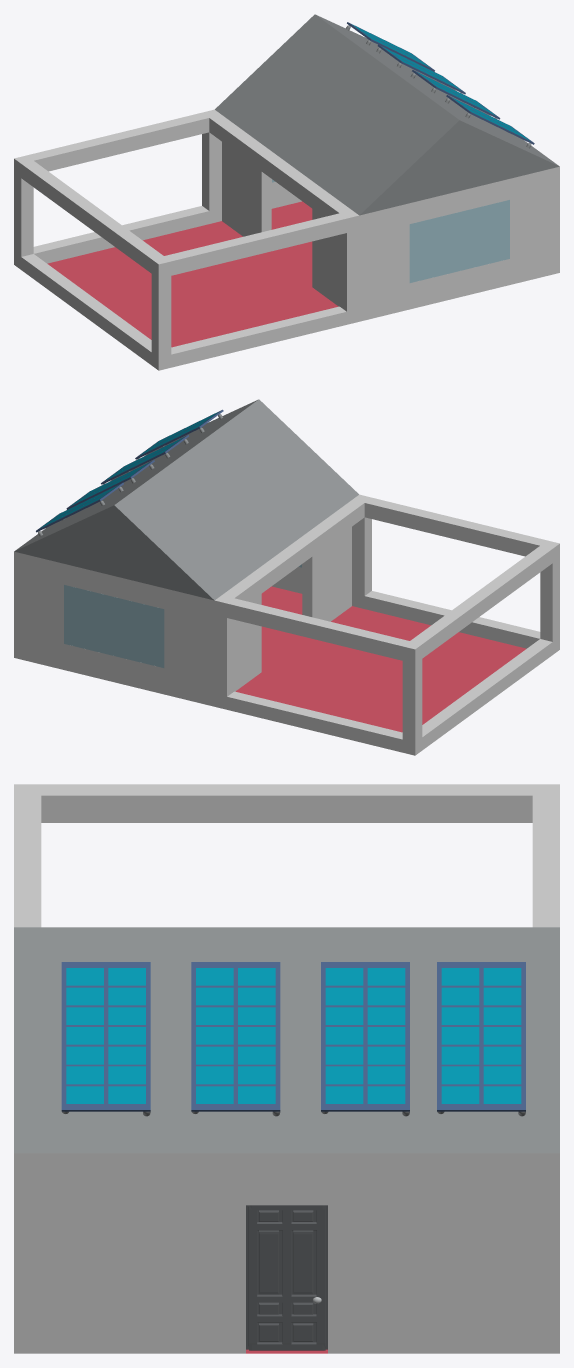
File: ver1.glb
3 renders of one model, top to bottom at view 1: azimuth 30°, elevation 25°; view 2: azimuth 150°, elevation 25°; view 3: azimuth 270°, elevation 25°, orthographic. The views are drawn at different scales.
Parts seen in each view (by area): view 1: Mesh_Mesh_head_geo.001_lambert2SG.001; view 2: Mesh_Mesh_head_geo.001_lambert2SG.001; view 3: Mesh_Mesh_head_geo.001_lambert2SG.001.
Boxes of the visible parts, x1,y1,x2,y2 form: Mesh_Mesh_head_geo.001_lambert2SG.001: [14, 14, 559, 370]; Mesh_Mesh_head_geo.001_lambert2SG.001: [14, 399, 559, 755]; Mesh_Mesh_head_geo.001_lambert2SG.001: [14, 784, 559, 1353].
Bounding box in the file's own units: 0.64 × 0.27 × 0.4.
